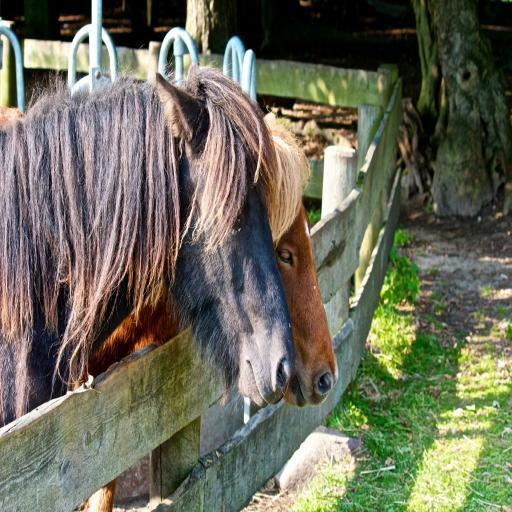horse: (0, 103, 338, 512), (0, 57, 298, 426)
